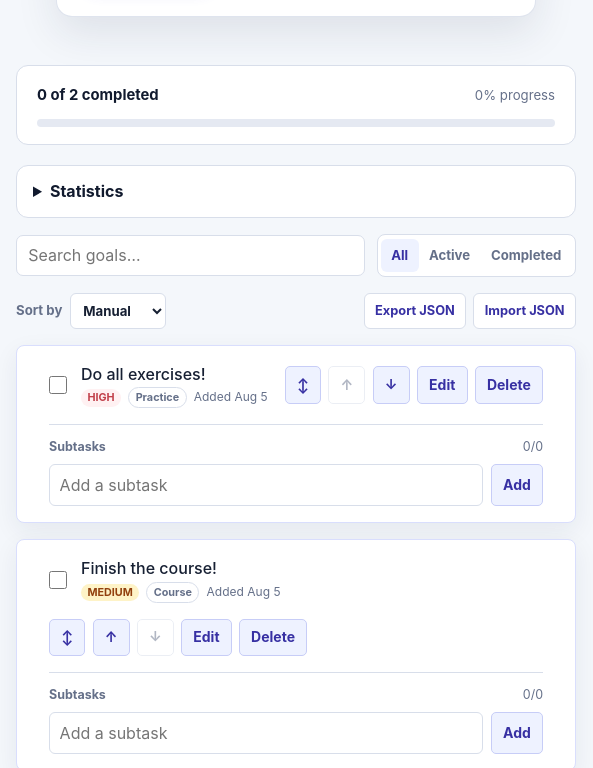
Test case: Course Goals › clears all completed goals at once
(page scrolled)
Click the checkbox labelled "Do all exercises! high Practice Added Aug 5" at (58, 385), box left=49, top=376, right=67, bottom=394
(page scrolled)
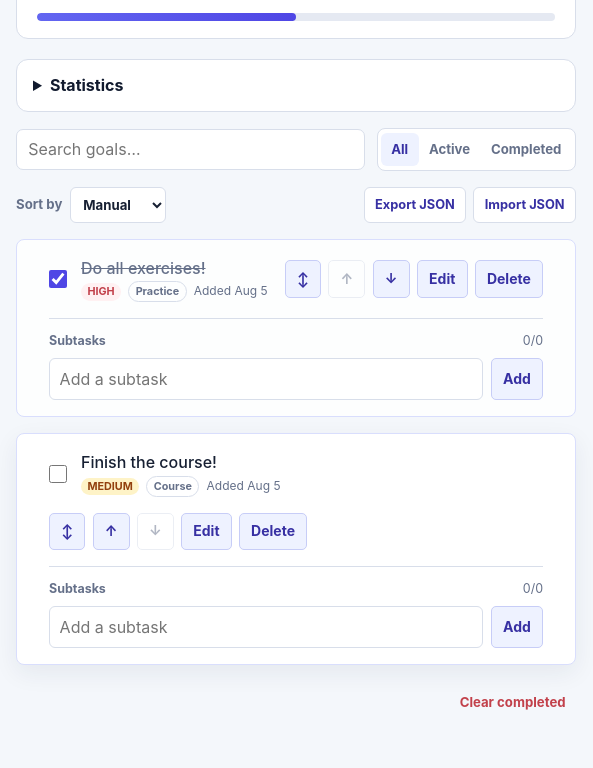
Click the button "Clear completed" at (513, 702), box left=449, top=685, right=576, bottom=719
(page scrolled)
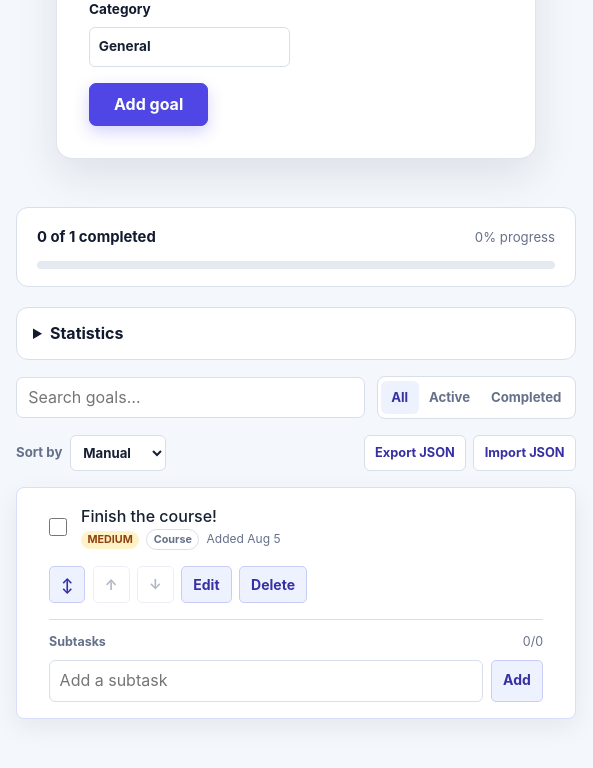
Expected: the text "Finish the course!" is shown, left=81, top=506, right=217, bottom=526
Expected: the text "Do all exercises!" is gone
